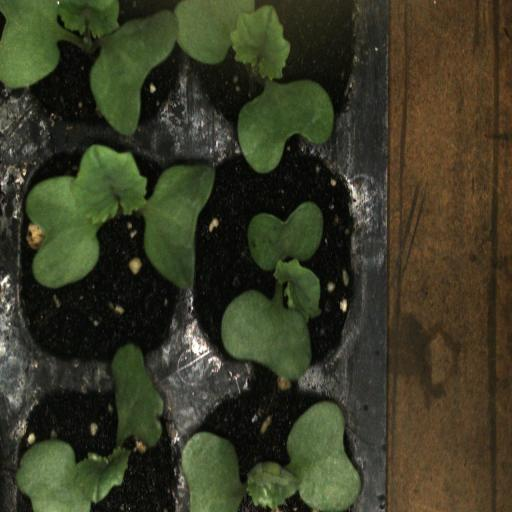Folha: (97, 344, 166, 447)
Germinacao: (184, 133, 365, 369), (14, 128, 188, 367), (183, 364, 368, 512), (15, 363, 184, 512), (187, 0, 364, 131), (16, 0, 186, 131)
